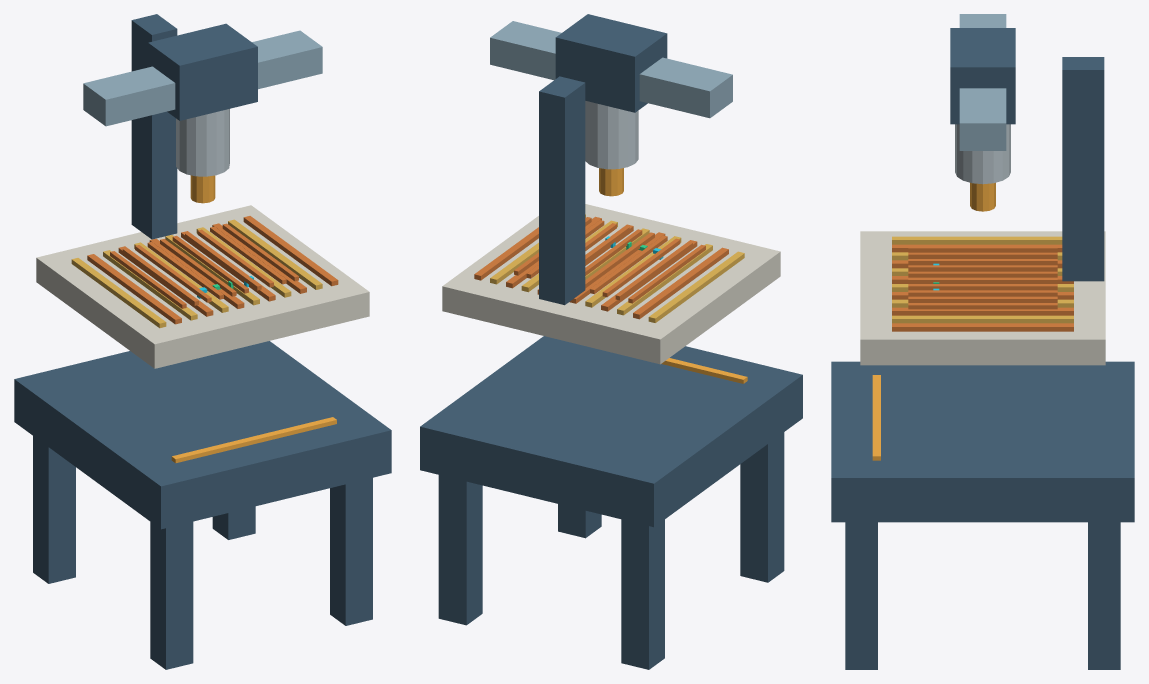
The model's file is 56_L78_InterconnectRCDelayAnalyzer.fbx.
3 renders of one model, left to right at view 1: azimuth 30°, elevation 25°; view 2: azimuth 150°, elevation 25°; view 3: azimuth 270°, elevation 25°, orthographic. The views are drawn at different scales.
Visible parts, largest first — view 1: InterconnectRCDelayAnalyzer, InterconnectRCDelayAnalyzer_Part_0033; view 2: InterconnectRCDelayAnalyzer, InterconnectRCDelayAnalyzer_Part_0033; view 3: InterconnectRCDelayAnalyzer, InterconnectRCDelayAnalyzer_Part_0033.
Boxes of the visible parts, box(x1,y1,x2,y2) form: InterconnectRCDelayAnalyzer: box(14, 14, 391, 669); InterconnectRCDelayAnalyzer_Part_0033: box(148, 23, 257, 120); InterconnectRCDelayAnalyzer: box(420, 21, 802, 669); InterconnectRCDelayAnalyzer_Part_0033: box(555, 14, 667, 112); InterconnectRCDelayAnalyzer: box(831, 14, 1134, 669); InterconnectRCDelayAnalyzer_Part_0033: box(950, 28, 1015, 124).
Size of the model in its own units: 118 by 270 by 130.
